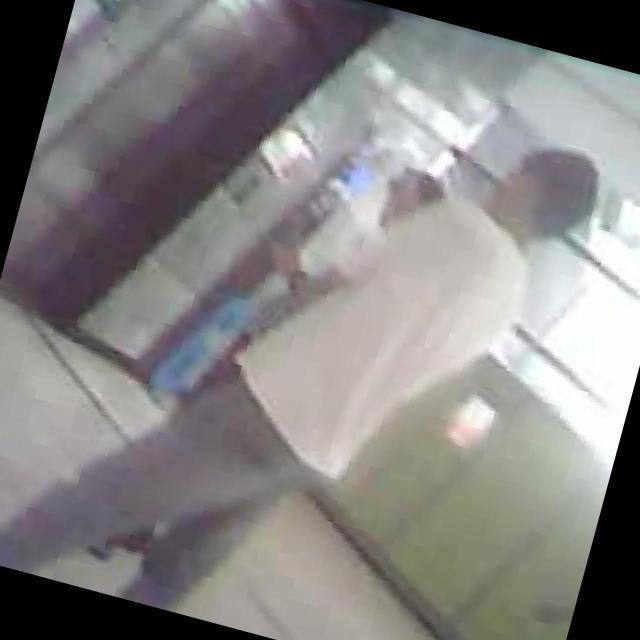person: (0, 18, 607, 640), (89, 114, 452, 618)
